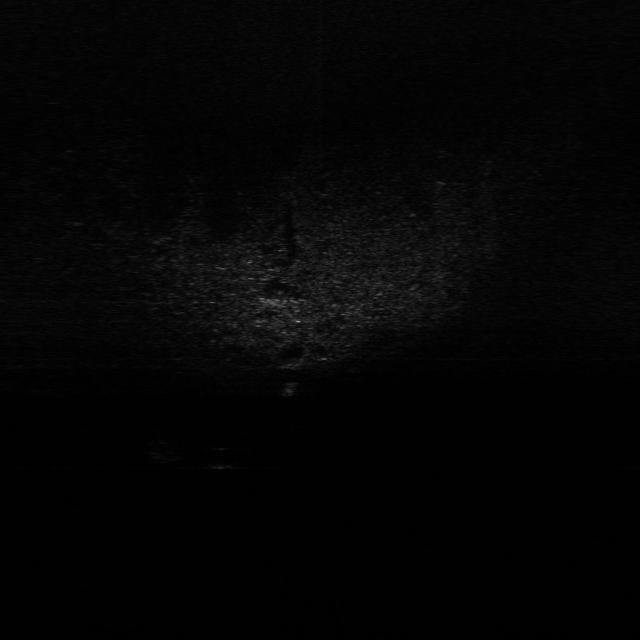ball: (208, 446, 241, 472)
circle cage: (143, 437, 187, 463)
cylinder: (278, 378, 300, 400)
